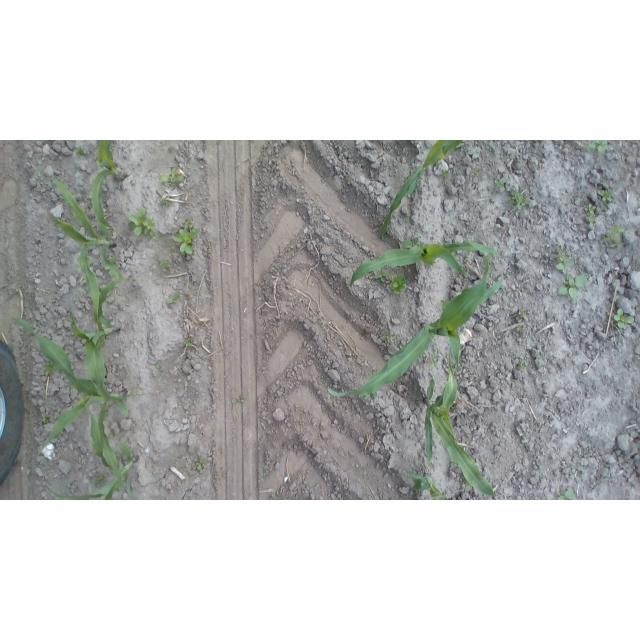Maize: (325, 252, 505, 400), (11, 316, 133, 456), (32, 168, 117, 327), (347, 234, 505, 301), (423, 354, 495, 500), (378, 140, 465, 248), (46, 400, 138, 500), (69, 276, 135, 400), (91, 141, 126, 230), (404, 468, 449, 501)
Weeds: (126, 206, 155, 238), (557, 273, 588, 300), (173, 228, 200, 256), (553, 245, 575, 275), (612, 307, 636, 329), (158, 168, 185, 187), (602, 223, 622, 247), (389, 272, 409, 295), (510, 189, 529, 212), (381, 328, 403, 346), (585, 141, 607, 156), (598, 189, 615, 208), (91, 471, 109, 487), (555, 488, 575, 501), (165, 291, 181, 306), (42, 360, 56, 377), (584, 204, 596, 223), (158, 259, 172, 274), (376, 269, 389, 284), (230, 395, 248, 405), (159, 198, 174, 210), (195, 457, 207, 471), (72, 145, 85, 157), (517, 362, 529, 374), (429, 355, 439, 368), (517, 309, 528, 320), (155, 363, 166, 374), (183, 219, 194, 229), (471, 168, 481, 178), (494, 178, 503, 189), (515, 325, 526, 333), (183, 340, 192, 349), (442, 170, 449, 181), (42, 414, 50, 423), (108, 430, 116, 439), (213, 472, 221, 480), (462, 484, 469, 491), (157, 233, 165, 239), (435, 347, 441, 354)
